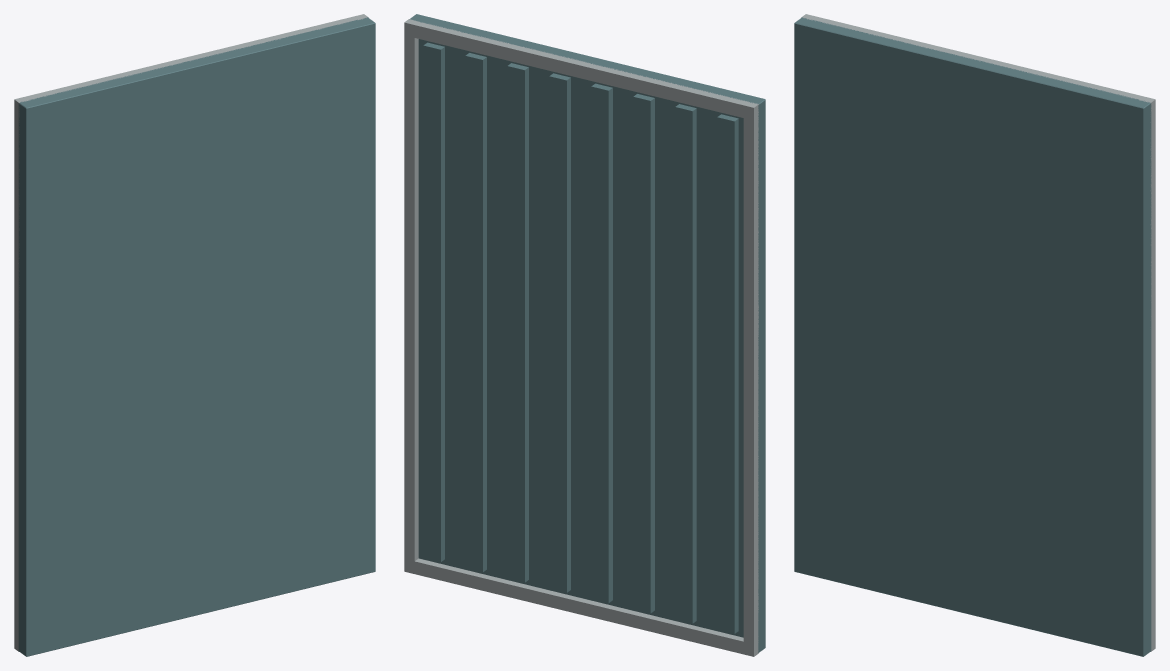
Rendered from freight_panel_2m.glb.
3 views of the same model, side by side, from view 1: azimuth 30°, elevation 25°; view 2: azimuth 150°, elevation 25°; view 3: azimuth 330°, elevation 25° (orthographic).
Parts seen in each view (by area): view 1: freight_panel_2m; view 2: freight_panel_2m; view 3: freight_panel_2m.
Boxes of the visible parts, <box> form: freight_panel_2m: <box>14,14,375,656</box>; freight_panel_2m: <box>404,14,765,656</box>; freight_panel_2m: <box>794,14,1155,656</box>.
Bounding box in the file's own units: 2 × 3 × 0.12.
